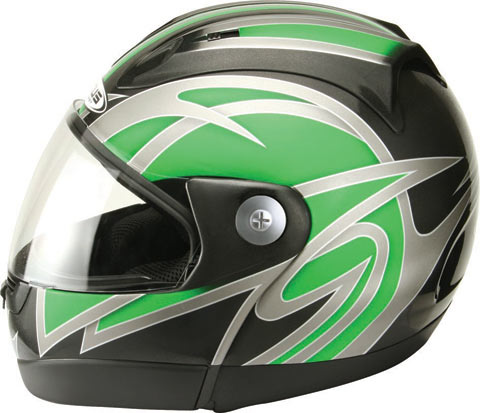helmet: (23, 8, 460, 387)
